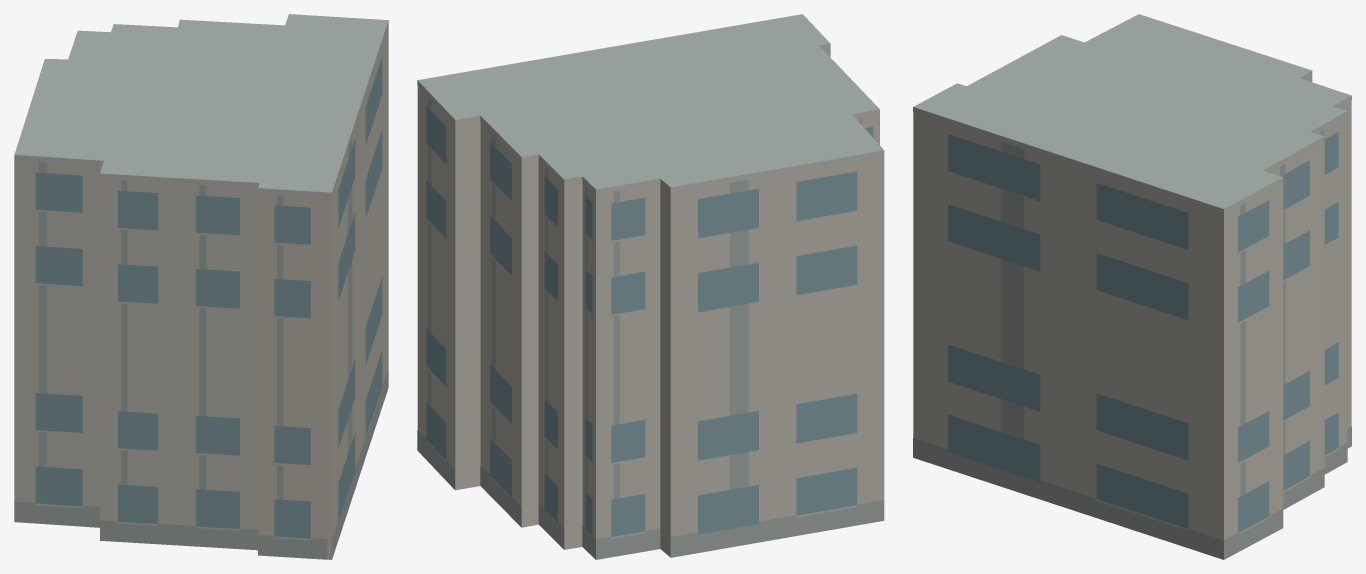
Rendered from survey-upis-32622107.glb.
The picture shows the model from 3 angles, left to right: view 1: azimuth 30°, elevation 25°; view 2: azimuth 150°, elevation 25°; view 3: azimuth 270°, elevation 25°; orthographic projection. The views are drawn at different scales.
Visible parts, largest first — view 1: survey-upis-32622107.tmp; view 2: survey-upis-32622107.tmp; view 3: survey-upis-32622107.tmp.
Boxes of the visible parts, x1=… form: survey-upis-32622107.tmp: x1=14, y1=14, x2=388, y2=559; survey-upis-32622107.tmp: x1=417, y1=14, x2=884, y2=559; survey-upis-32622107.tmp: x1=913, y1=14, x2=1351, y2=559.
Bounding box in the file's own units: 18.67 × 15.65 × 17.74.
